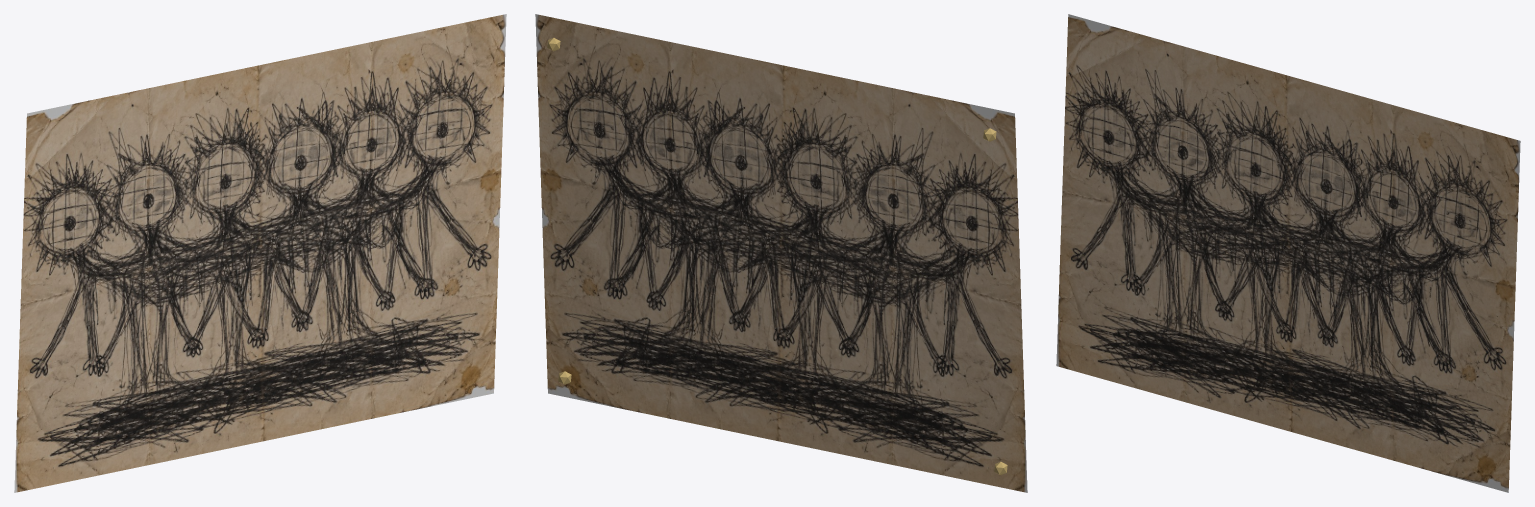
The model's file is room_child_room__画·全家福.gltf.
3 views of the same model, side by side, from view 1: azimuth 30°, elevation 25°; view 2: azimuth 150°, elevation 25°; view 3: azimuth 330°, elevation 25° (orthographic). The views are drawn at different scales.
Parts seen in each view (by area): view 1: 艾瑞斯的房间·画·全家福; view 2: 艾瑞斯的房间·画·全家福; view 3: 艾瑞斯的房间·画·全家福.
Boxes of the visible parts, bbox=[...] form: 艾瑞斯的房间·画·全家福: bbox=[14, 14, 506, 492]; 艾瑞斯的房间·画·全家福: bbox=[535, 14, 1027, 492]; 艾瑞斯的房间·画·全家福: bbox=[1056, 14, 1520, 492].
Size of the model in its own units: 0.4512 by 0.3452 by 0.0116.
Materials: 2 (1 with a texture image).
